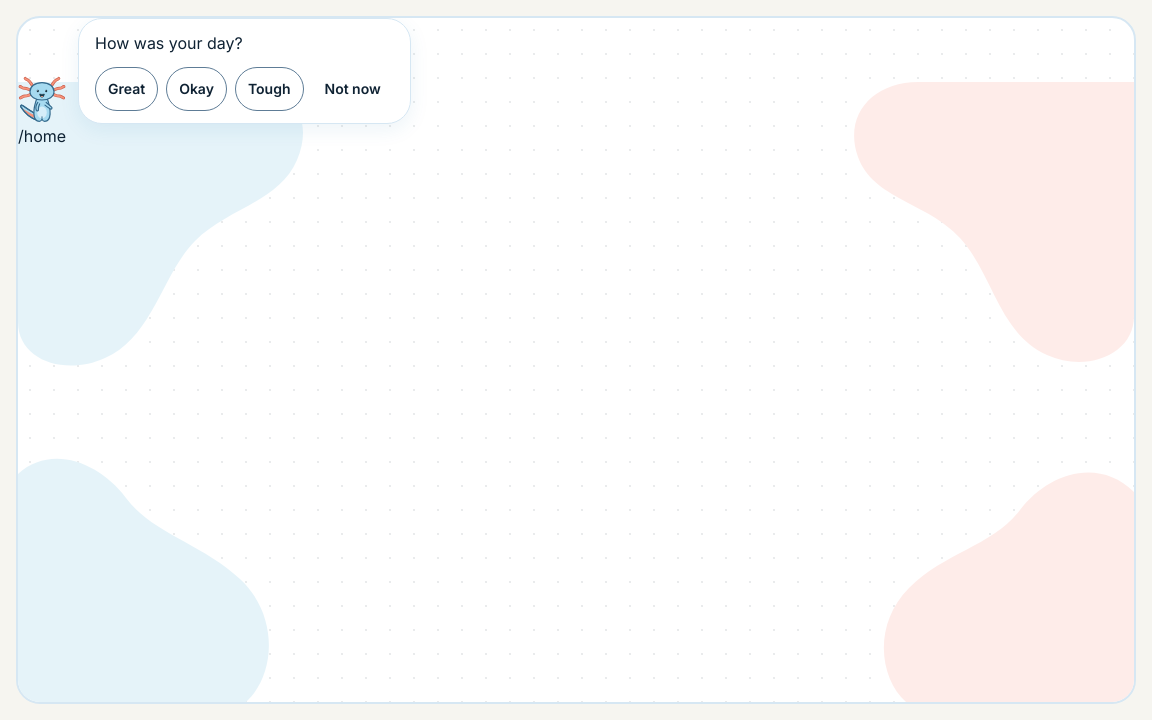
LotiBubbles › advances the conversation when a chip is clicked
Click the button "Great" at (127, 89), box [95,67,158,111]
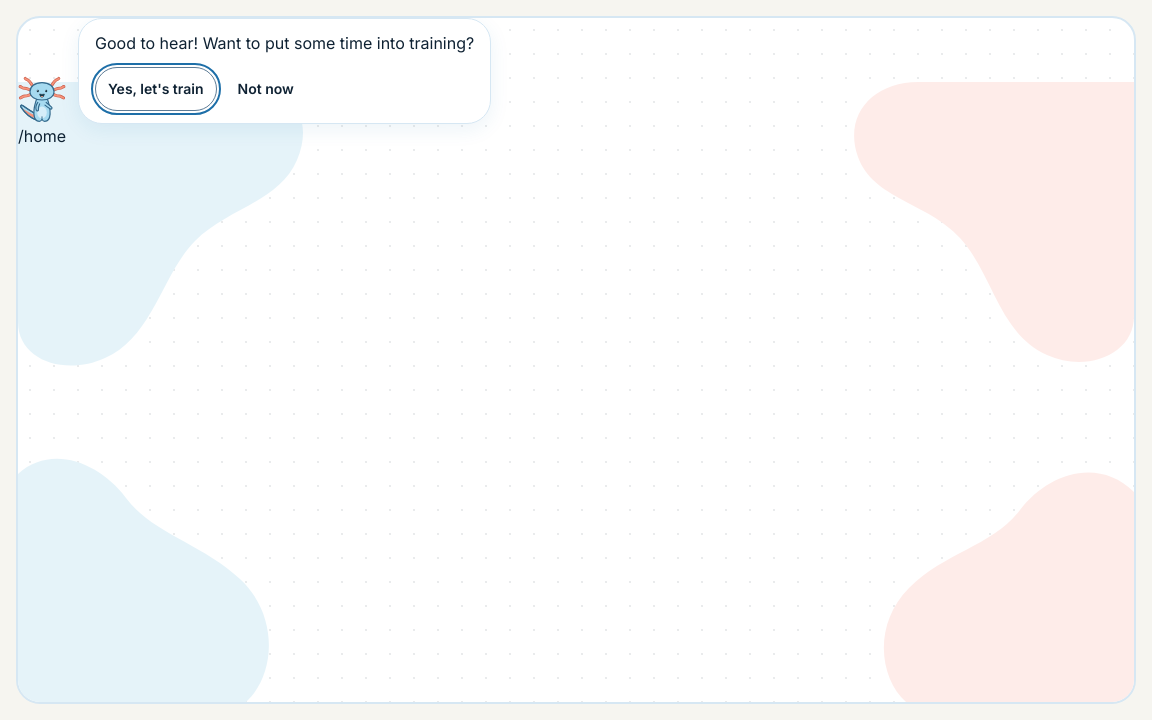
Expected: the text "Good to hear! Want to put some time into training?" is shown, [95,31,474,55]
Expected: the text "How was your day?" is gone
